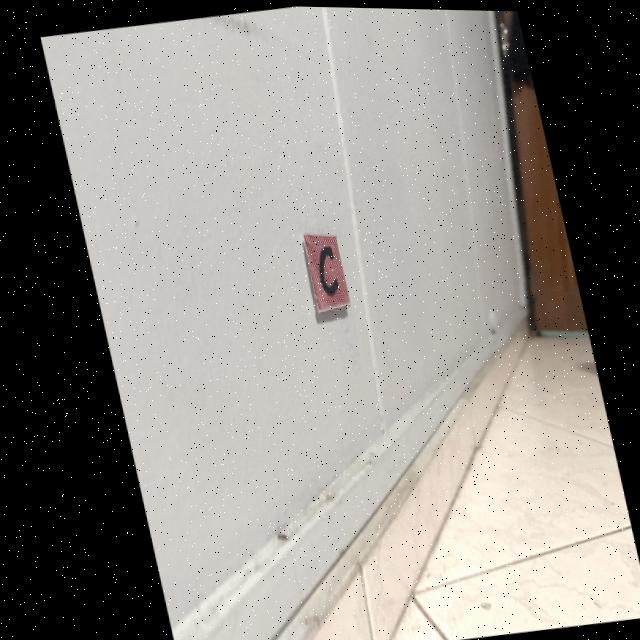C: (315, 246, 334, 293)
